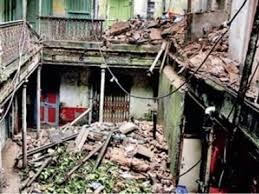rubble: (17, 121, 176, 193), (107, 16, 242, 61)
